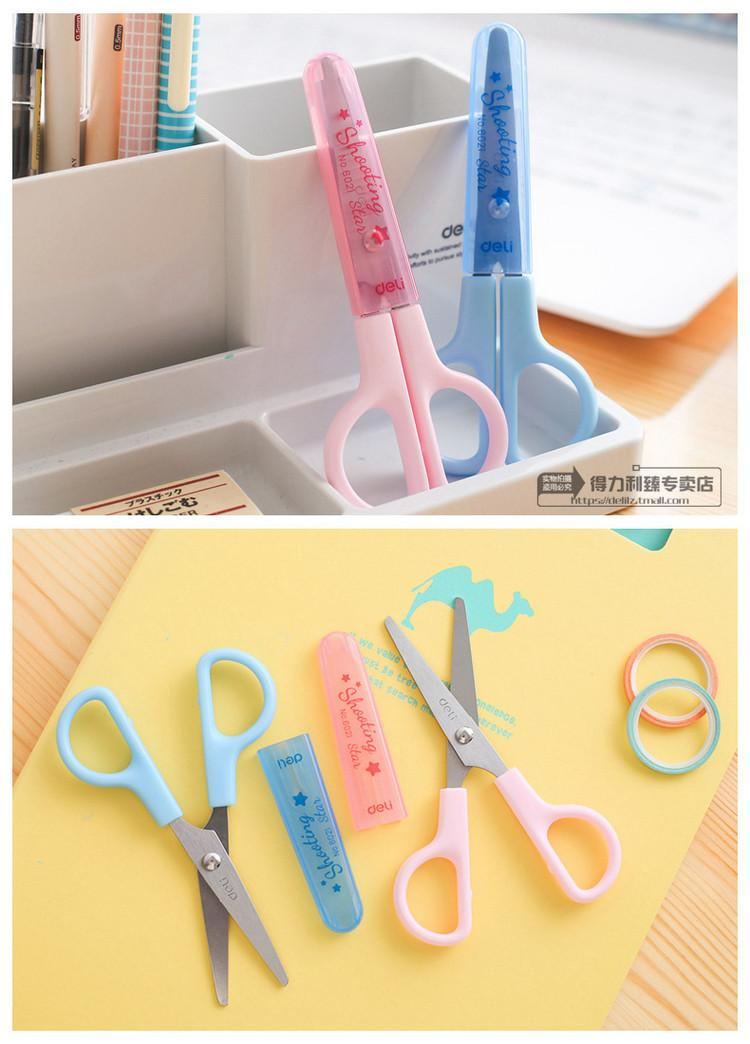scissor: (51, 568, 634, 1012), (305, 17, 625, 539)
